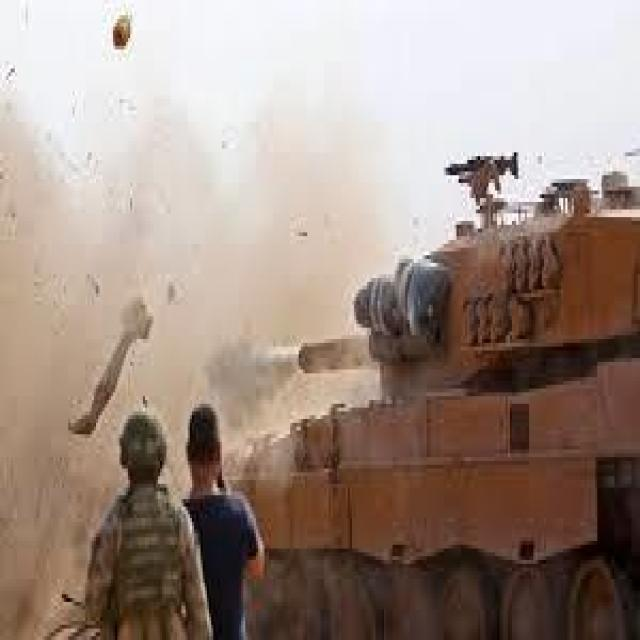MIL_MBT: (229, 221, 635, 625)
